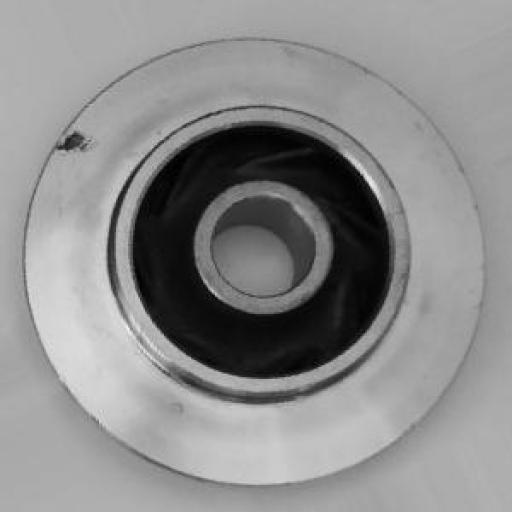defect: (16, 100, 116, 193)
